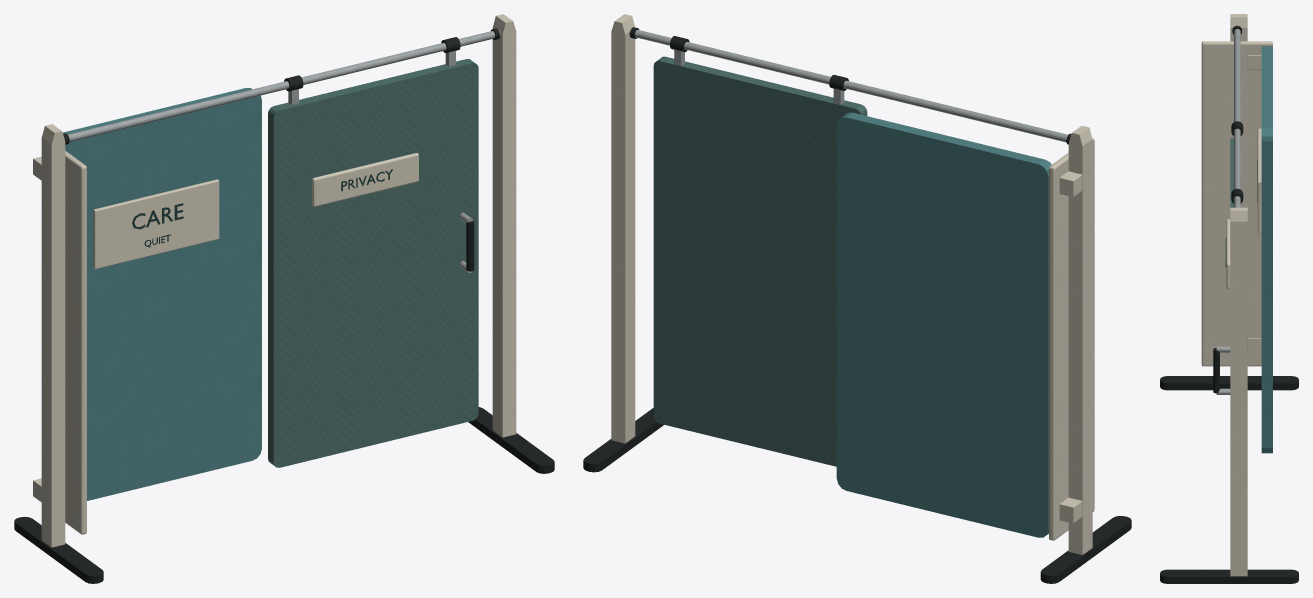
The model's file is AST-MED-001.glb.
3 views of the same model, side by side, from view 1: azimuth 30°, elevation 25°; view 2: azimuth 150°, elevation 25°; view 3: azimuth 270°, elevation 25° (orthographic). The views are drawn at different scales.
Parts seen in each view (by area): view 1: EXPORT_opaque_sliding_privacy_field, EXPORT_fixed_quiet_arrival_return, EXPORT_left_rounded_support_post, EXPORT_right_rounded_support_post, EXPORT_left_rounded_return_nose, EXPORT_care_arrival_relief_plaque, EXPORT_continuous_exposed_slider_rod, EXPORT_privacy_raised_semantic_band, EXPORT_left_splayed_contact_foot, EXPORT_right_splayed_contact_foot; view 2: EXPORT_fixed_quiet_arrival_return, EXPORT_opaque_sliding_privacy_field, EXPORT_right_rounded_support_post, EXPORT_left_rounded_support_post, EXPORT_left_rounded_return_nose, EXPORT_continuous_exposed_slider_rod, EXPORT_left_splayed_contact_foot, EXPORT_right_splayed_contact_foot; view 3: EXPORT_left_rounded_return_nose, EXPORT_right_rounded_support_post, EXPORT_fixed_quiet_arrival_return, EXPORT_right_splayed_contact_foot, EXPORT_left_splayed_contact_foot, EXPORT_continuous_exposed_slider_rod, EXPORT_care_arrival_relief_plaque, EXPORT_left_rounded_support_post, EXPORT_privacy_raised_semantic_band, EXPORT_privacy_continuous_pull_grip, EXPORT_opaque_sliding_privacy_field, EXPORT_lower_return_support_bracket (+1 smaller).
Boxes of the visible parts, x1=… form: EXPORT_opaque_sliding_privacy_field: x1=268, y1=59, x2=478, y2=467; EXPORT_fixed_quiet_arrival_return: x1=63, y1=88, x2=261, y2=500; EXPORT_left_rounded_support_post: x1=41, y1=124, x2=65, y2=547; EXPORT_right_rounded_support_post: x1=492, y1=14, x2=516, y2=437; EXPORT_left_rounded_return_nose: x1=65, y1=151, x2=86, y2=534; EXPORT_care_arrival_relief_plaque: x1=93, y1=179, x2=219, y2=269; EXPORT_continuous_exposed_slider_rod: x1=68, y1=30, x2=500, y2=141; EXPORT_privacy_raised_semantic_band: x1=312, y1=153, x2=418, y2=206; EXPORT_left_splayed_contact_foot: x1=14, y1=516, x2=103, y2=583; EXPORT_right_splayed_contact_foot: x1=468, y1=407, x2=554, y2=473; EXPORT_fixed_quiet_arrival_return: x1=836, y1=112, x2=1051, y2=537; EXPORT_opaque_sliding_privacy_field: x1=653, y1=56, x2=867, y2=466; EXPORT_right_rounded_support_post: x1=611, y1=14, x2=635, y2=443; EXPORT_left_rounded_support_post: x1=1068, y1=125, x2=1092, y2=554; EXPORT_left_rounded_return_nose: x1=1049, y1=138, x2=1094, y2=540; EXPORT_continuous_exposed_slider_rod: x1=629, y1=29, x2=1067, y2=142; EXPORT_left_splayed_contact_foot: x1=1040, y1=516, x2=1131, y2=583; EXPORT_right_splayed_contact_foot: x1=583, y1=408, x2=663, y2=472; EXPORT_left_rounded_return_nose: x1=1201, y1=41, x2=1272, y2=366; EXPORT_right_rounded_support_post: x1=1230, y1=207, x2=1247, y2=576; EXPORT_fixed_quiet_arrival_return: x1=1261, y1=46, x2=1272, y2=453; EXPORT_right_splayed_contact_foot: x1=1160, y1=569, x2=1298, y2=583; EXPORT_left_splayed_contact_foot: x1=1160, y1=376, x2=1298, y2=390; EXPORT_continuous_exposed_slider_rod: x1=1234, y1=28, x2=1240, y2=207; EXPORT_care_arrival_relief_plaque: x1=1257, y1=128, x2=1261, y2=233; EXPORT_left_rounded_support_post: x1=1230, y1=14, x2=1247, y2=41; EXPORT_privacy_raised_semantic_band: x1=1226, y1=219, x2=1230, y2=288; EXPORT_privacy_continuous_pull_grip: x1=1213, y1=348, x2=1219, y2=393; EXPORT_opaque_sliding_privacy_field: x1=1230, y1=138, x2=1233, y2=207; EXPORT_lower_return_support_bracket: x1=1247, y1=338, x2=1261, y2=352.
Size of the model in its own units: 2.74 by 2.36 by 0.8.
Materials: 6 (6 with a texture image).
